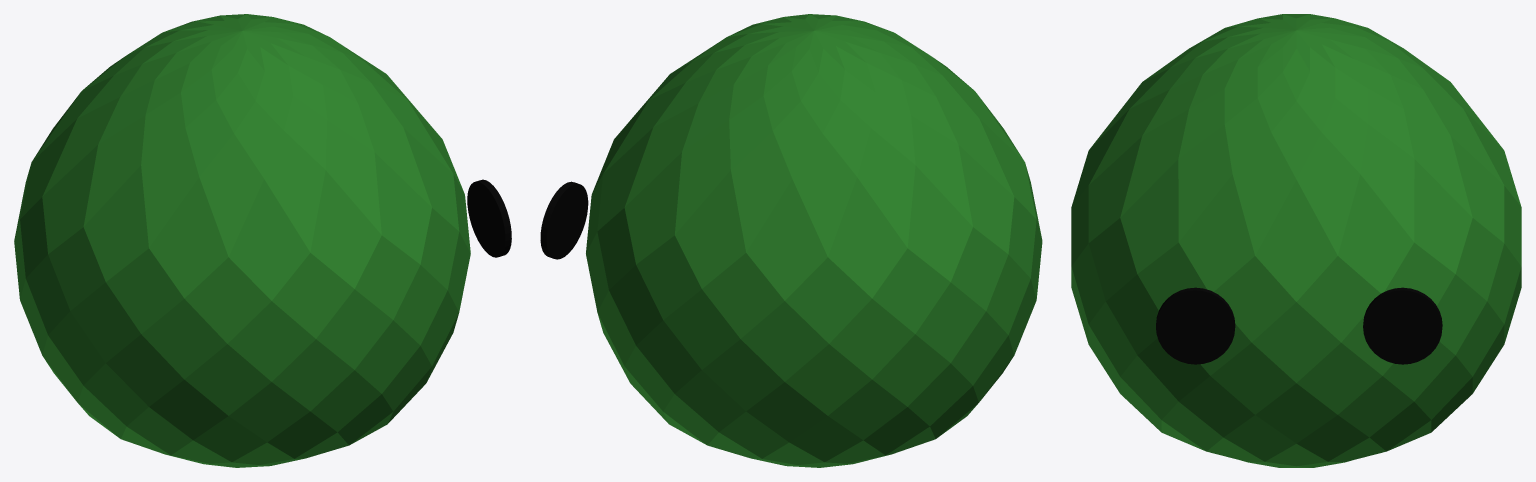
The model's file is (Jump-Animation)Prot-Slime 3d.fbx.
3 views of the same model, side by side, from view 1: azimuth 30°, elevation 25°; view 2: azimuth 150°, elevation 25°; view 3: azimuth 270°, elevation 25° (orthographic).
Parts seen in each view (by area): view 1: Sphere; view 2: Sphere; view 3: Sphere.
Boxes of the visible parts, x1,y1,x2,y2 form: Sphere: (14, 14, 511, 467); Sphere: (540, 14, 1042, 467); Sphere: (1071, 14, 1521, 467).
Size of the model in its own units: 204 by 204 by 200.
